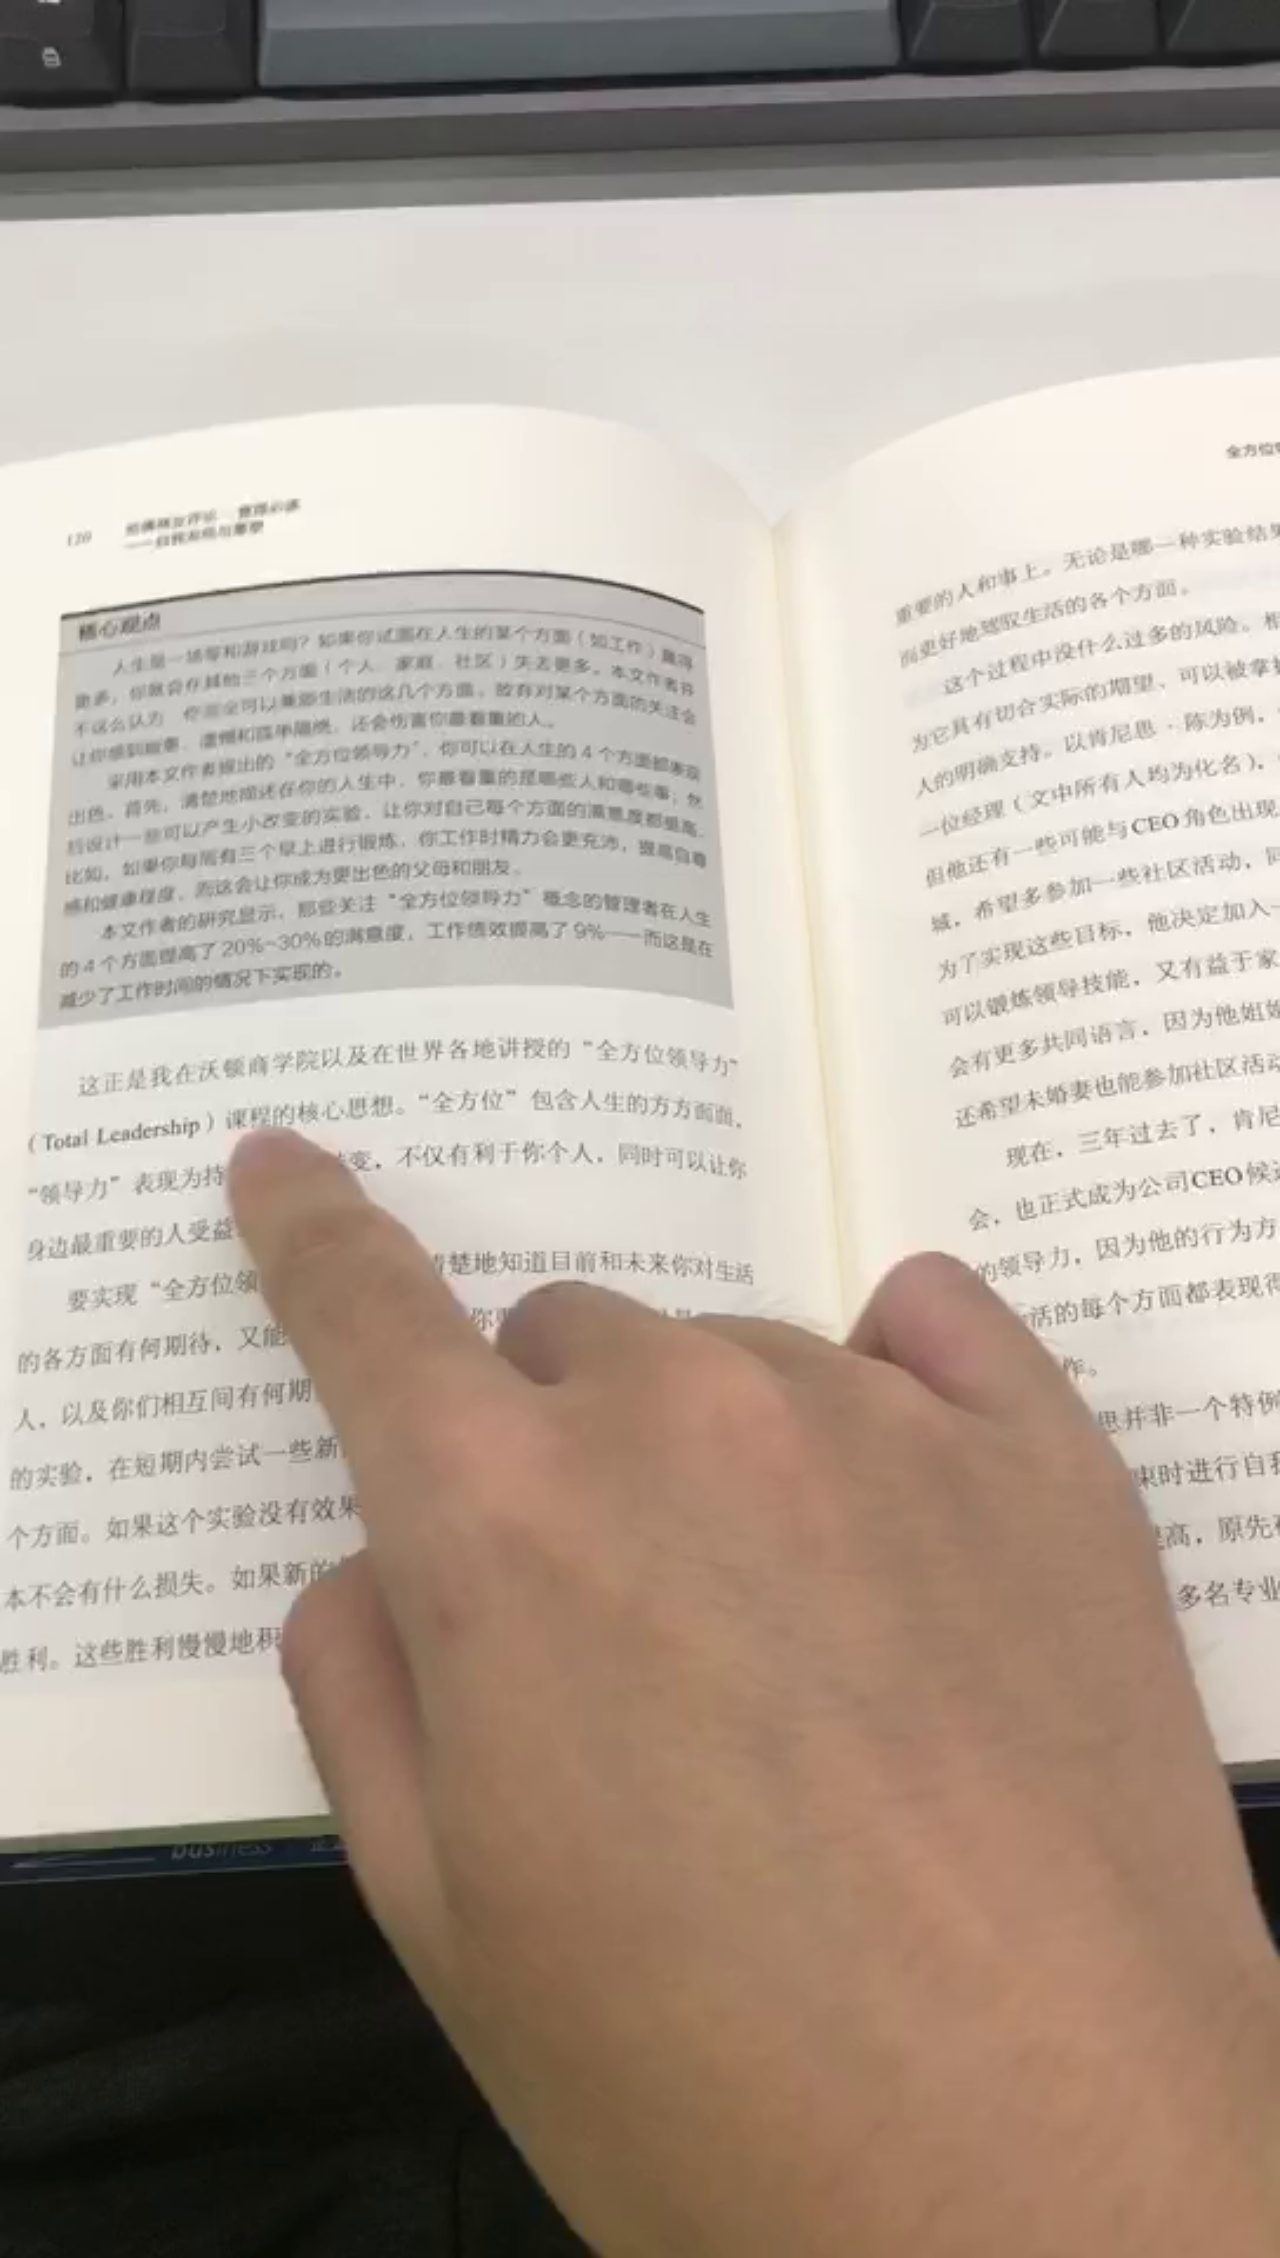finger2: (233, 1121, 323, 1172)
